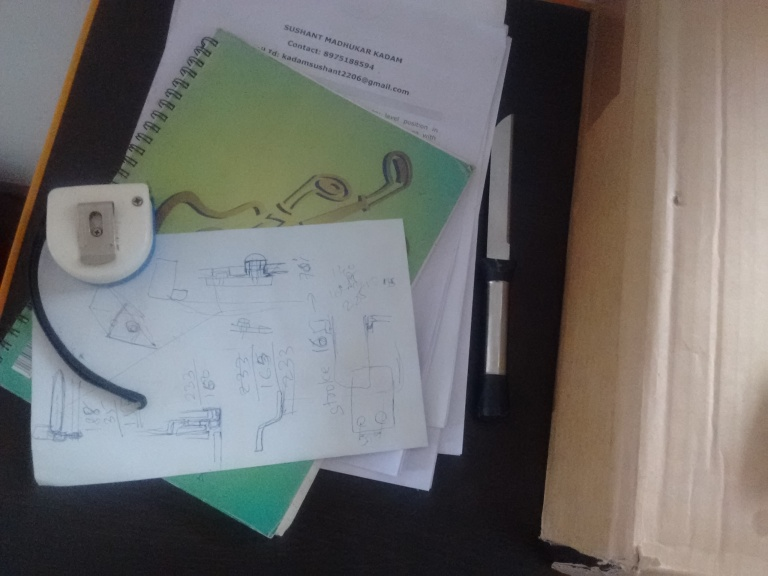knife: (475, 110, 518, 422)
